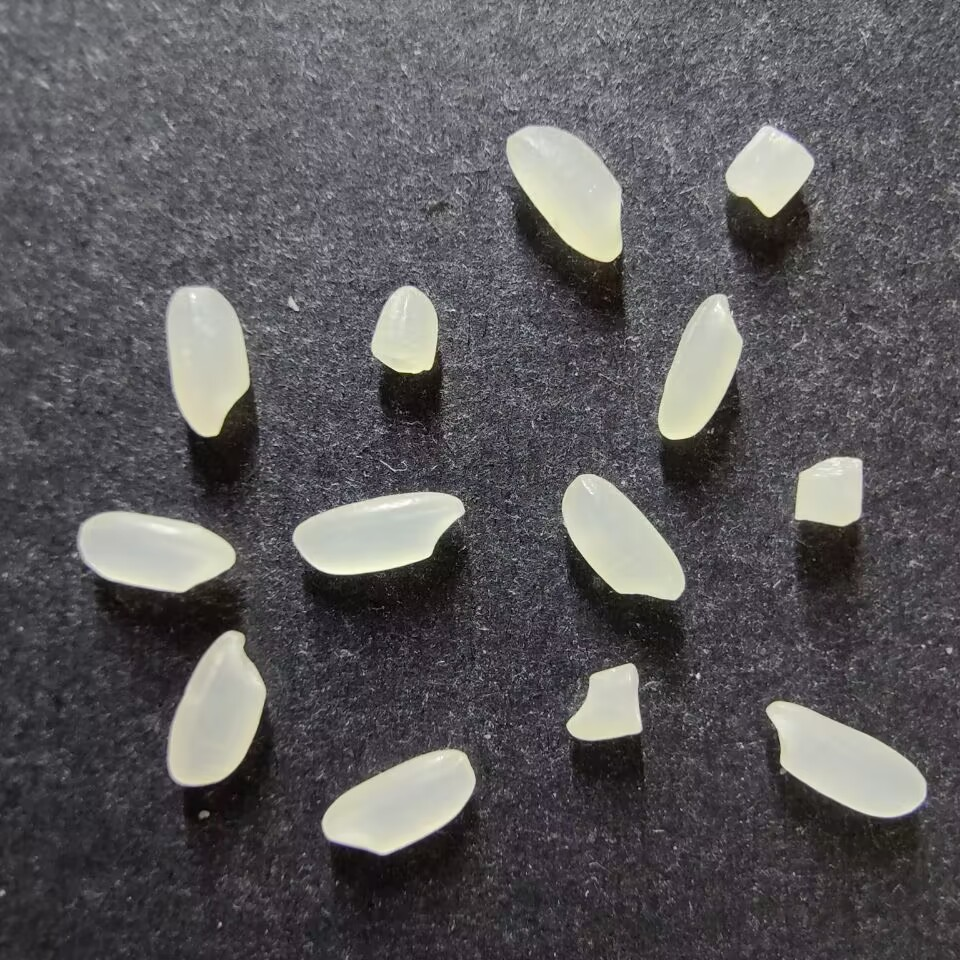broken: (723, 125, 815, 218), (566, 663, 643, 743), (370, 284, 438, 374), (793, 455, 863, 526)
rice: (764, 700, 928, 818), (320, 748, 476, 855), (505, 125, 623, 263), (561, 473, 685, 602), (166, 629, 266, 788), (291, 490, 465, 575), (77, 510, 235, 593), (165, 284, 250, 438), (657, 293, 743, 440)
